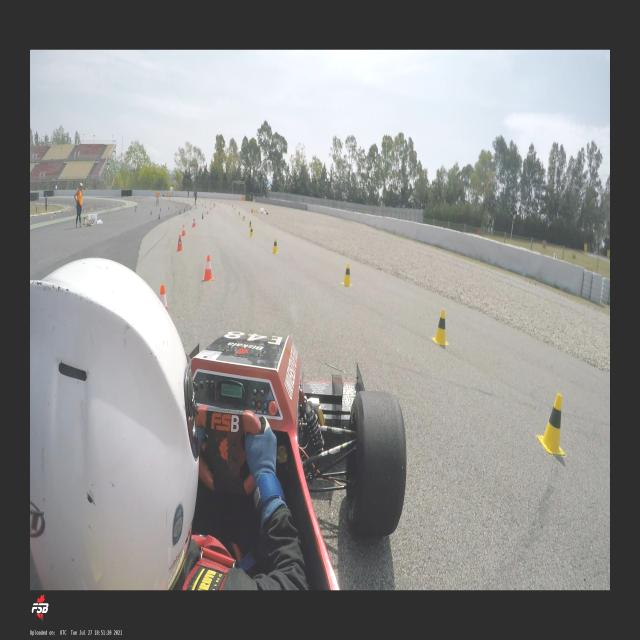orange_cone: (202, 255, 214, 281), (160, 284, 168, 312), (176, 236, 182, 252), (182, 224, 186, 237), (192, 219, 195, 227), (30, 220, 32, 225), (206, 210, 208, 213), (51, 216, 52, 221)
unknown_cone: (158, 213, 160, 220), (202, 213, 204, 219), (150, 210, 152, 214), (179, 210, 181, 214)
yellow_cone: (536, 392, 566, 455), (432, 309, 449, 345), (341, 263, 352, 286), (272, 238, 278, 254), (249, 227, 253, 237), (250, 220, 252, 228), (84, 216, 86, 224), (243, 215, 245, 221), (238, 211, 240, 216)
